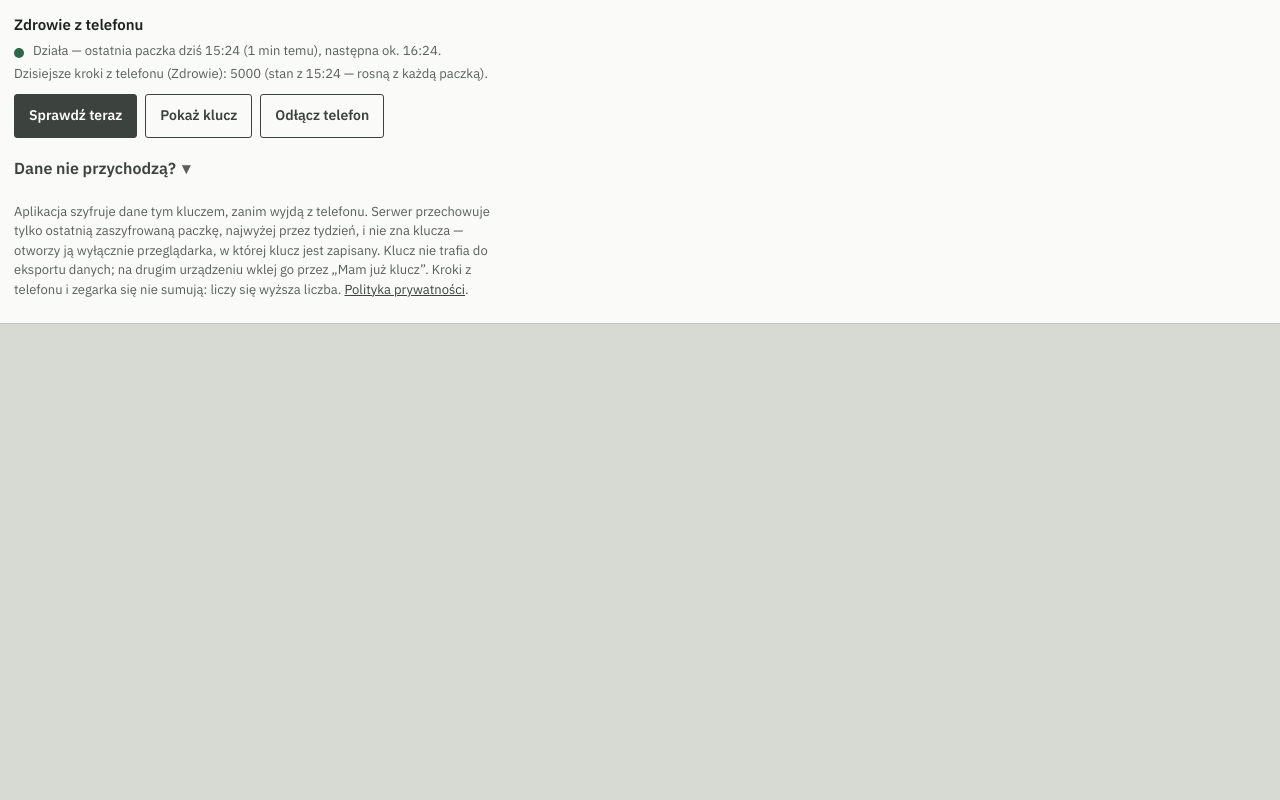
karta „Zdrowie z telefonu” › po pierwszych danych: skąd i kiedy przyszły, klucz schowany, „Sprawdź teraz” pyta serwer
This screenshot has width=1280, height=800.
Click the button "Sprawdź teraz" at (76, 116), box x1=14 y1=94 x2=137 y2=138
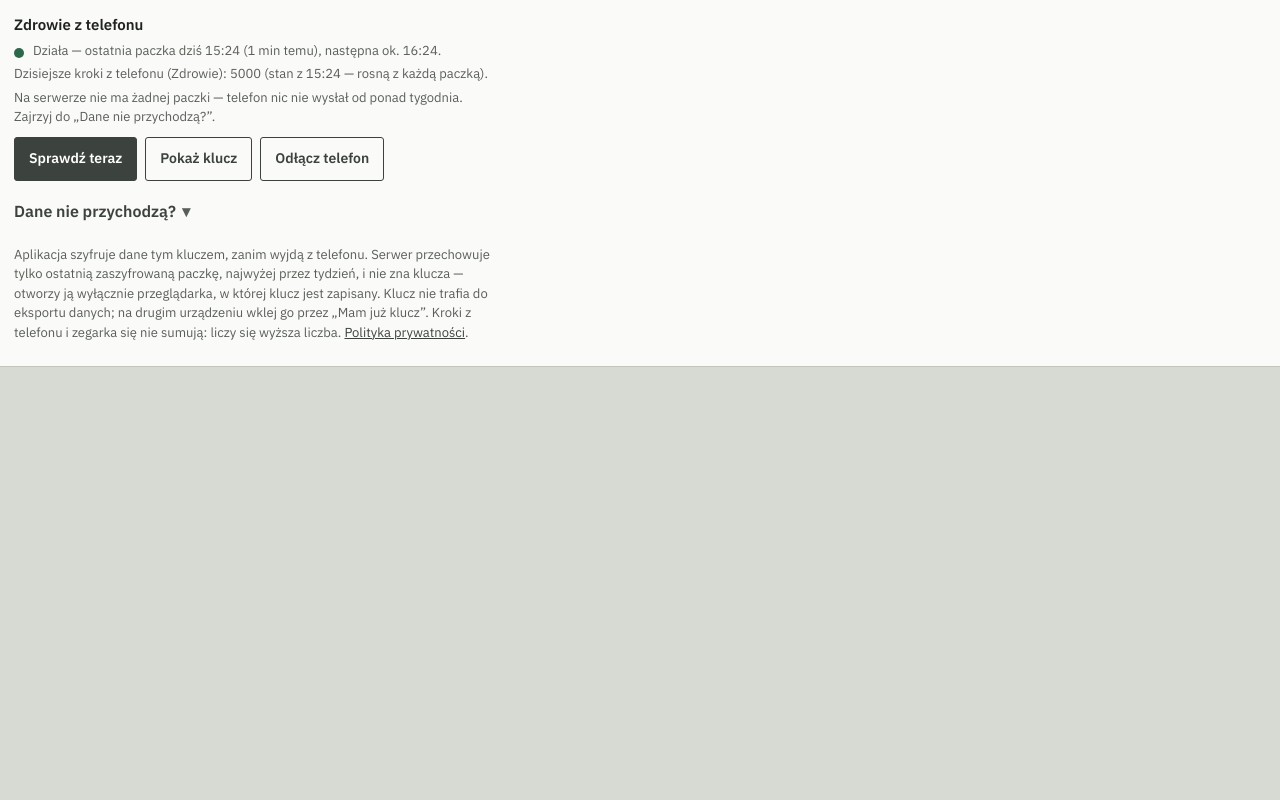
Check: the message shows "telefon nic nie wysłał od ponad tygodnia", box x1=14 y1=88 x2=463 y2=125
Click the button "Pokaż klucz" at (199, 158), box x1=145 y1=136 x2=252 y2=180
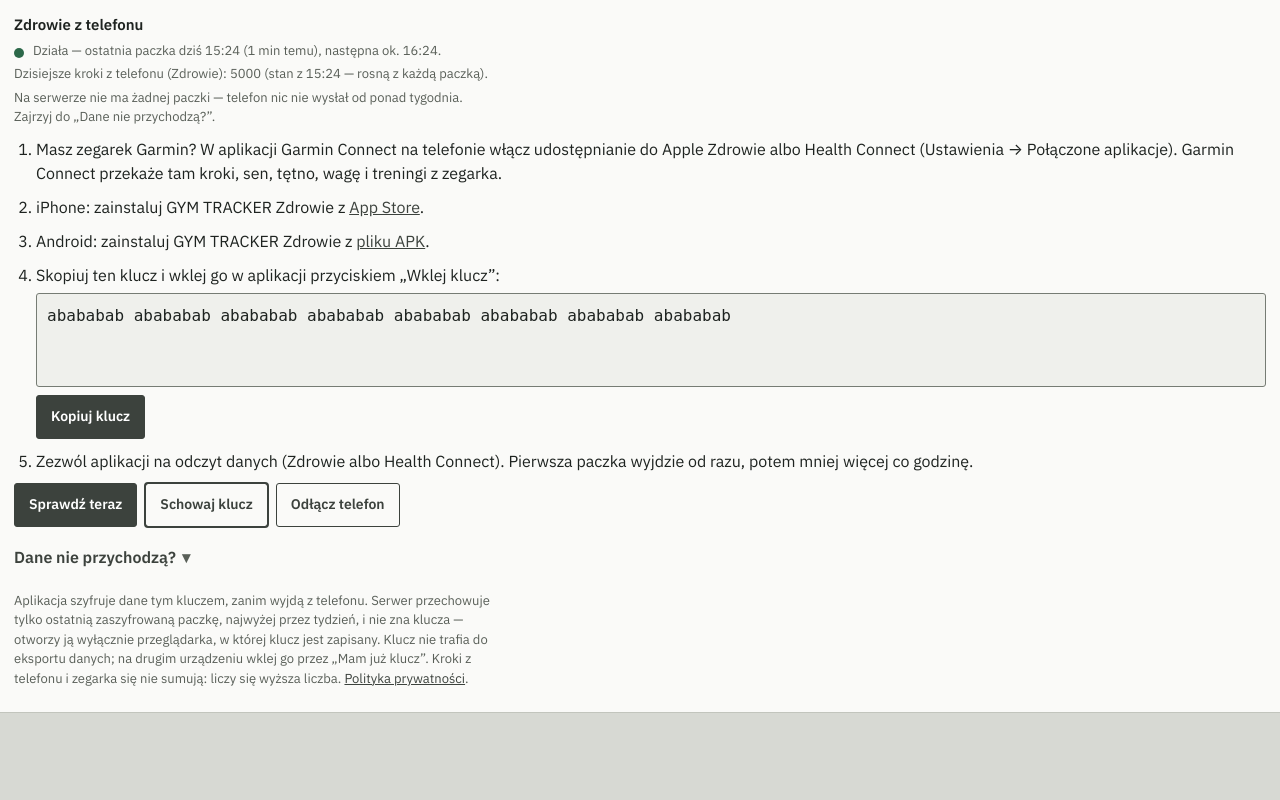
Check: the text box named "Klucz do aplikacji na telefonie" is shown, box x1=36 y1=292 x2=1266 y2=386
